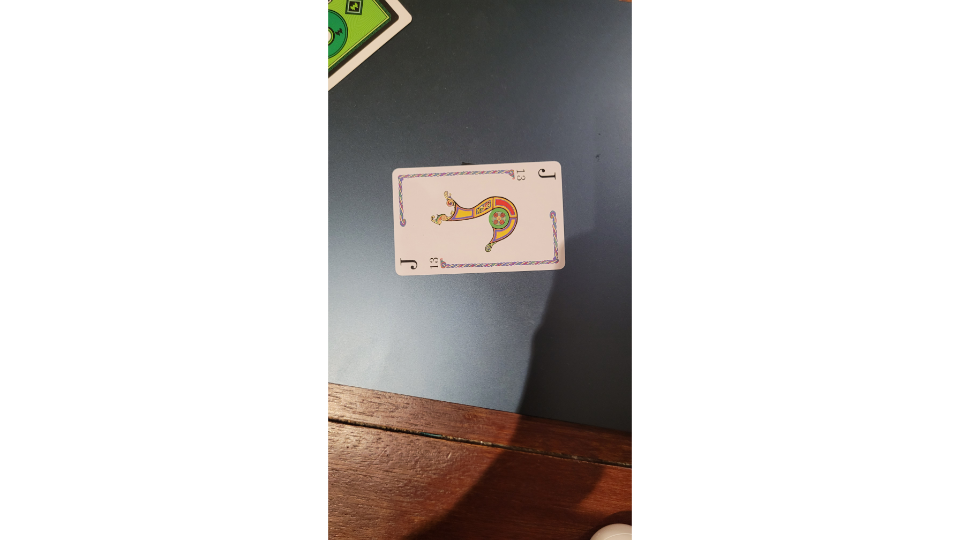J: (388, 157, 571, 279)
